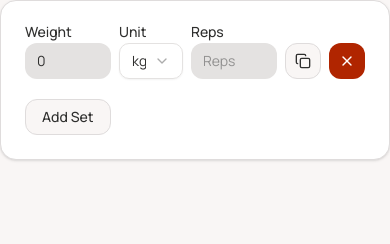
Test: AddSets › duplicates a set when the copy button is clicked
The image size is (390, 244).
Click the button named "Duplicate set 1" at {"x": 303, "y": 61}, box [285,43,321,79]
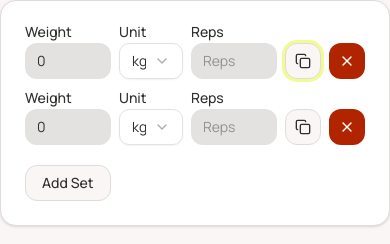
Check: the button named "Duplicate set 2" is shown, box [285,109,321,145]
Check: the button named "Remove set 2" is shown, box [329,109,365,145]
